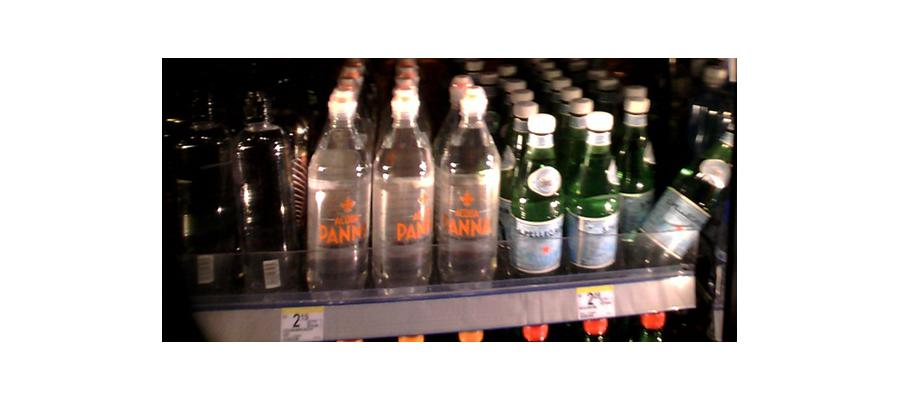bottle: (302, 82, 370, 296), (231, 90, 299, 295), (371, 80, 432, 299), (435, 92, 500, 288), (511, 112, 565, 281), (569, 105, 618, 274), (616, 84, 657, 253)
